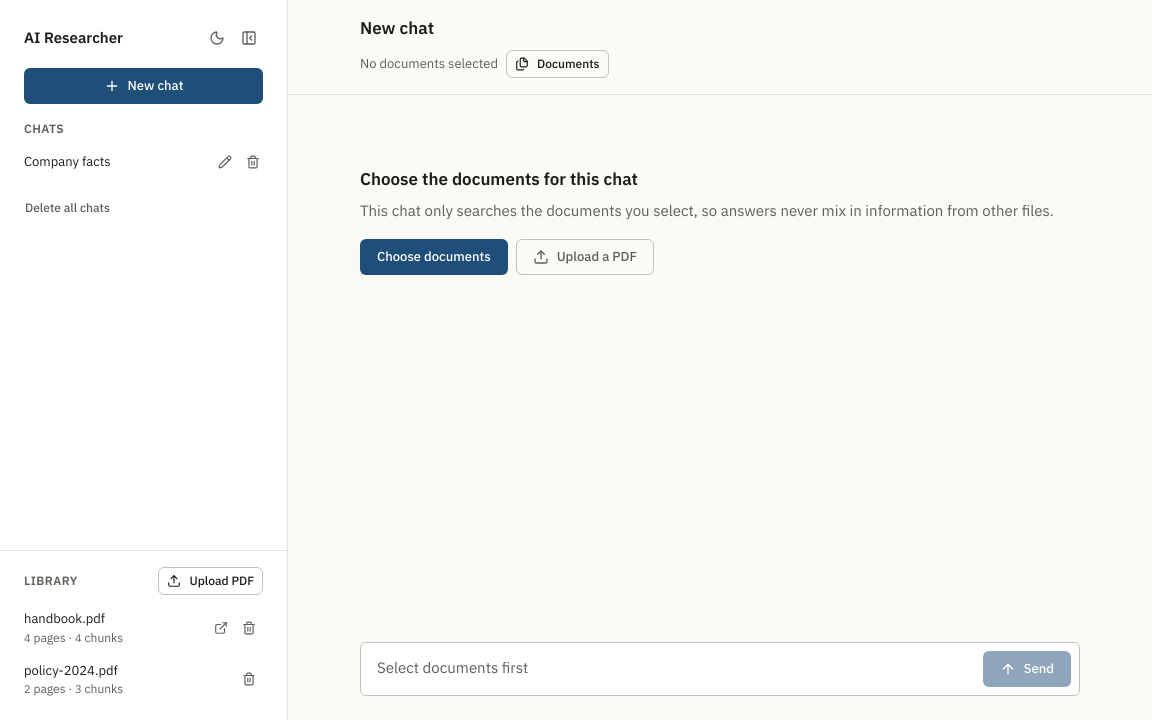
Test case: ChatView › links a source chip to its PDF at the cited page, in a new tab
Click the button "Company facts": (112, 162) [16, 146, 207, 178]
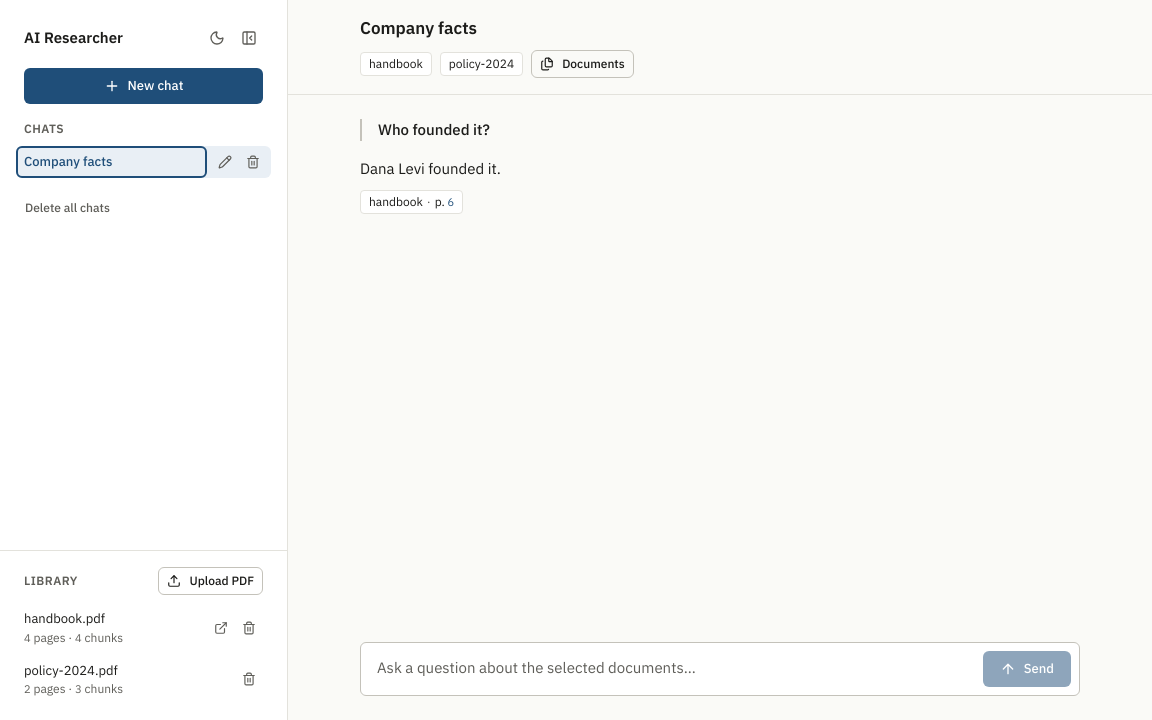
Now the heading "Company facts" is shown, box [360, 16, 477, 42]
